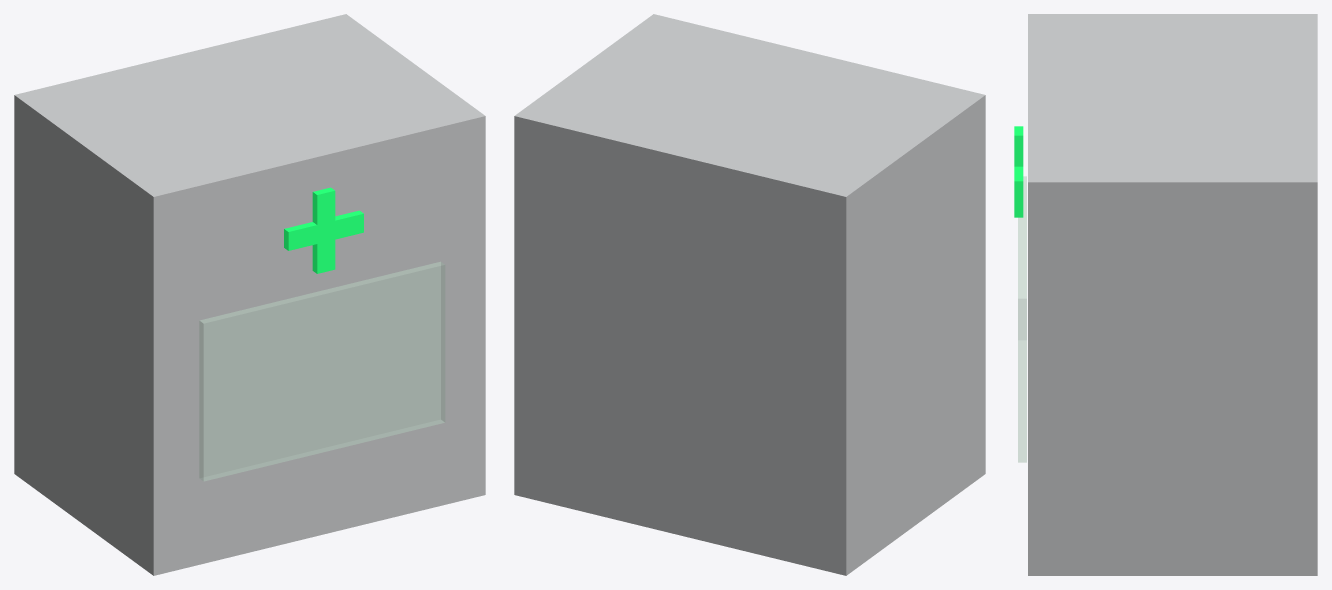
The model's file is pharmacy.glb.
3 views of the same model, side by side, from view 1: azimuth 30°, elevation 25°; view 2: azimuth 150°, elevation 25°; view 3: azimuth 270°, elevation 25° (orthographic). The views are drawn at different scales.
Size of the model in its own units: 1.68 by 1.84 by 1.28.
